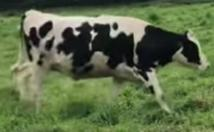cow: (10, 9, 210, 114)
